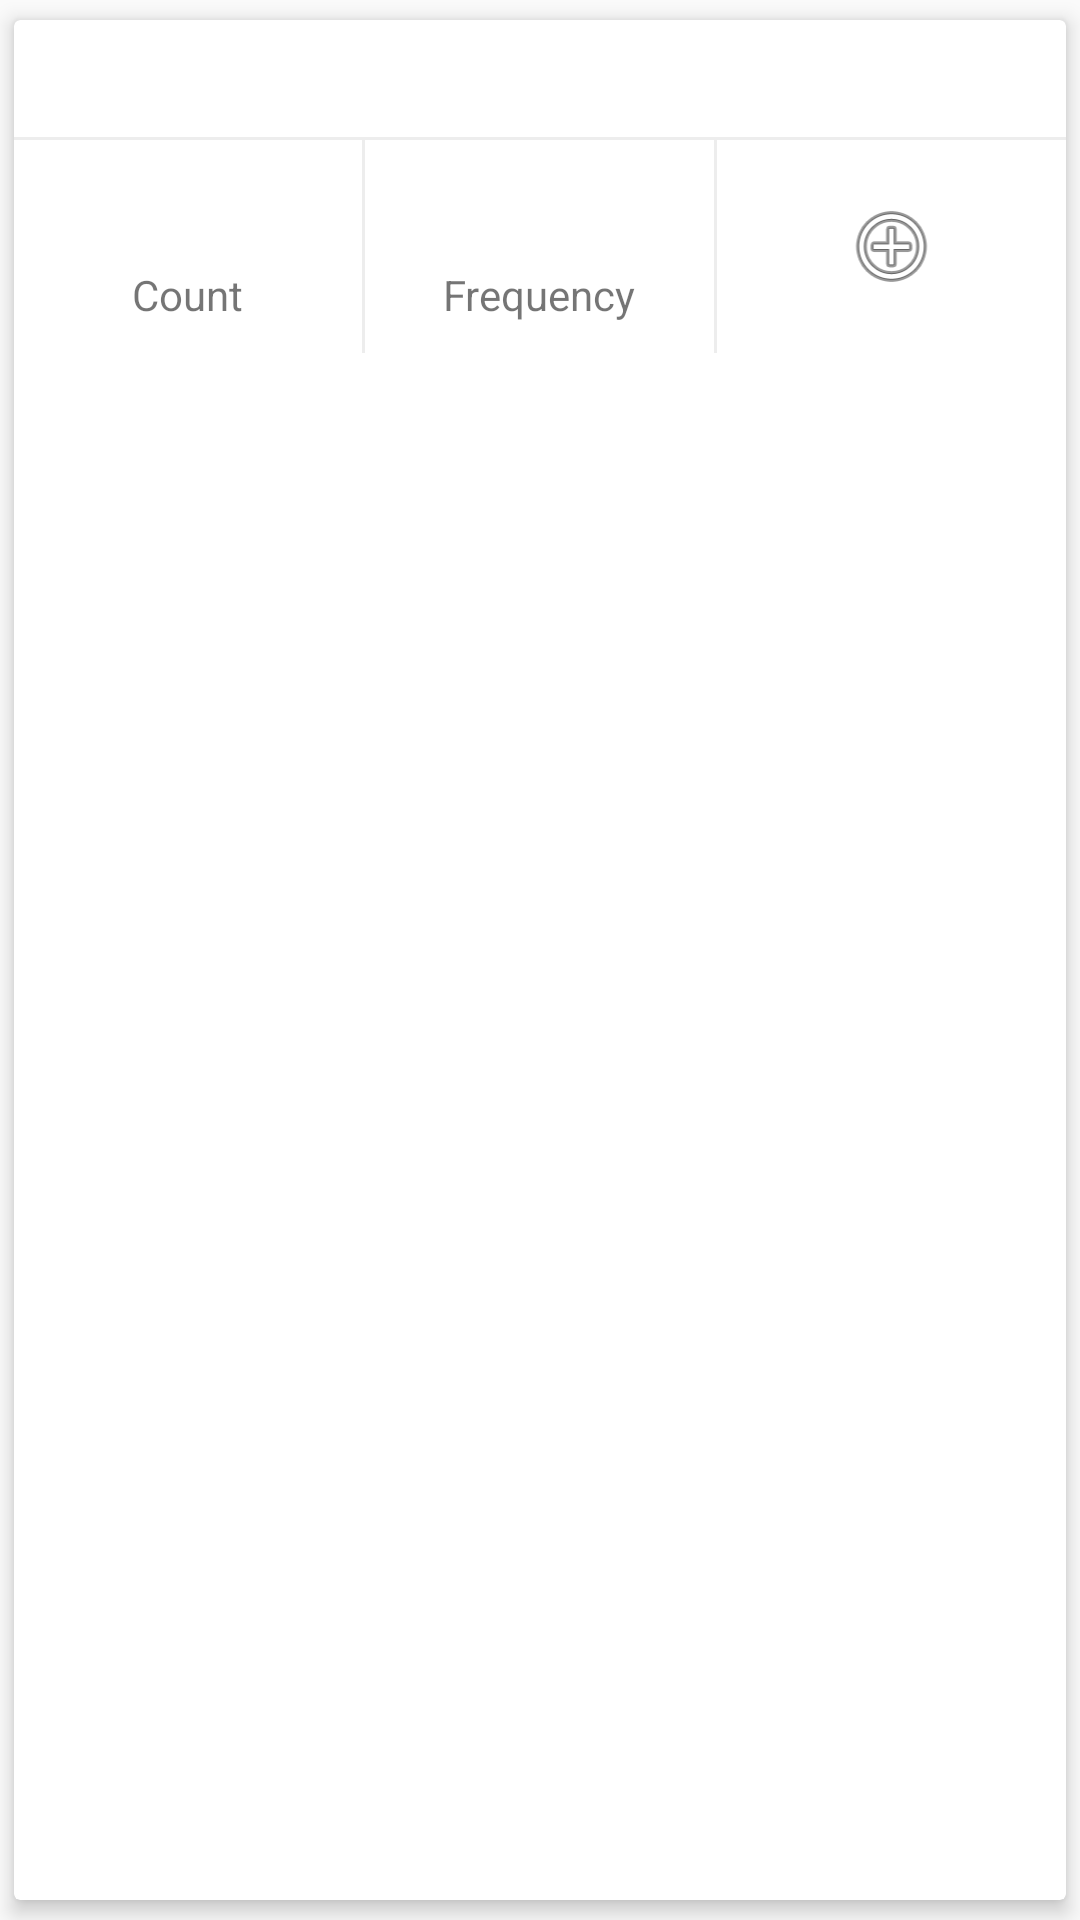

Named icons in this screenshot (1080 × 1920) and their centers, [x,y]:
Increment habit count: [891,246]
